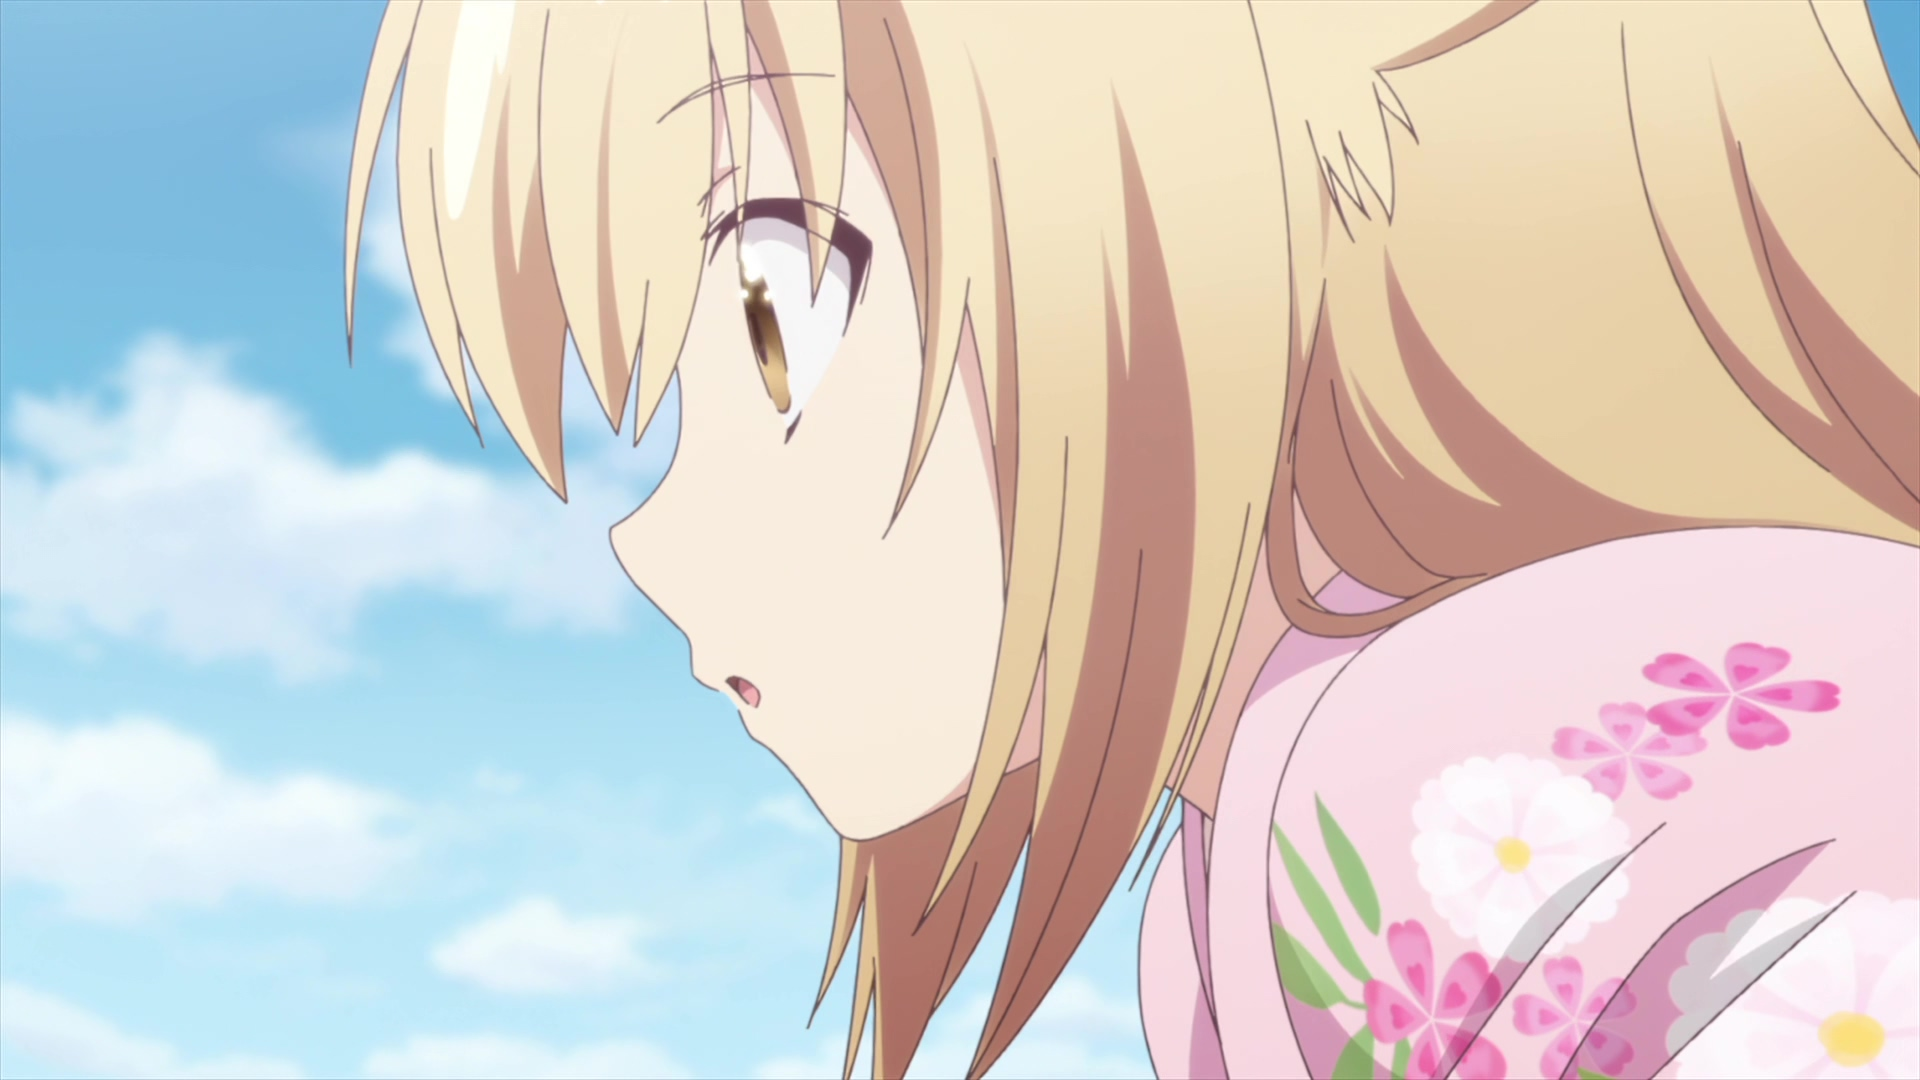柚: (343, 1, 1920, 1080)
